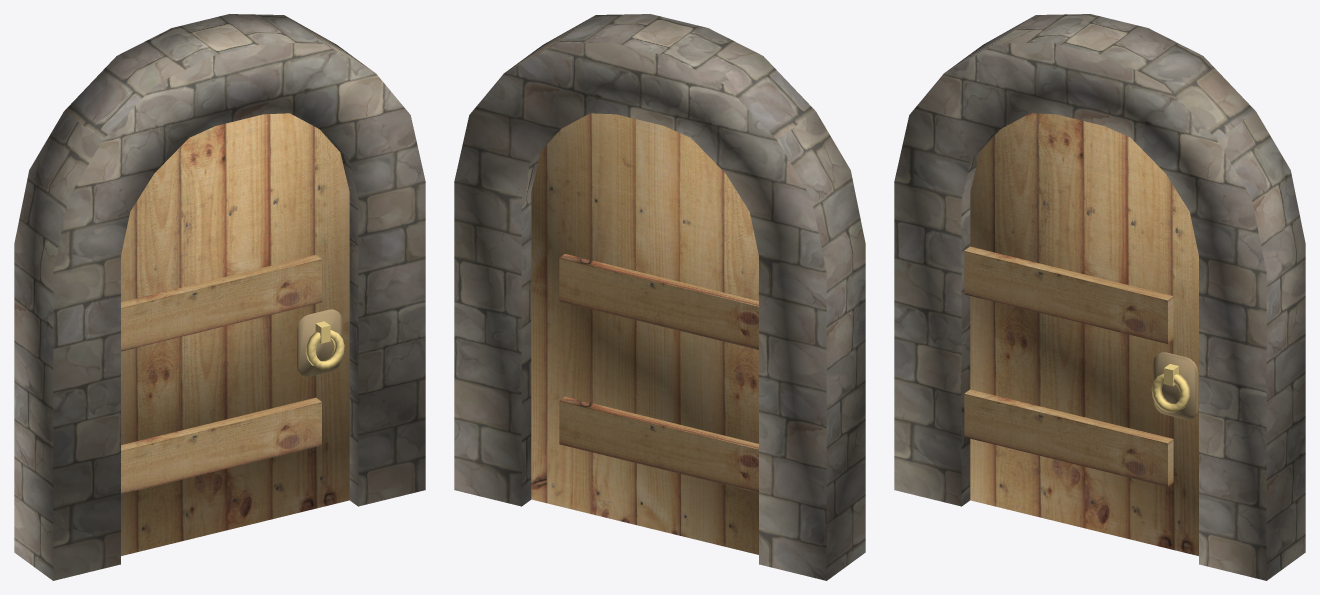
Rendered from bad_door.glb.
The picture shows the model from 3 angles, left to right: view 1: azimuth 30°, elevation 25°; view 2: azimuth 150°, elevation 25°; view 3: azimuth 330°, elevation 25°; orthographic projection.
Parts seen in each view (by area): view 1: door_frame, door; view 2: door_frame, door; view 3: door_frame, door.
Part boxes in pixels (box(x1,y1,x2,y2)): door_frame: box(14, 14, 425, 580); door: box(121, 113, 349, 555); door_frame: box(454, 14, 865, 580); door: box(531, 113, 758, 554); door_frame: box(894, 14, 1305, 580); door: box(964, 113, 1198, 555).
Bounding box in the file's own units: 2.96 × 3.68 × 0.5487.
5 materials, 3 textured.
